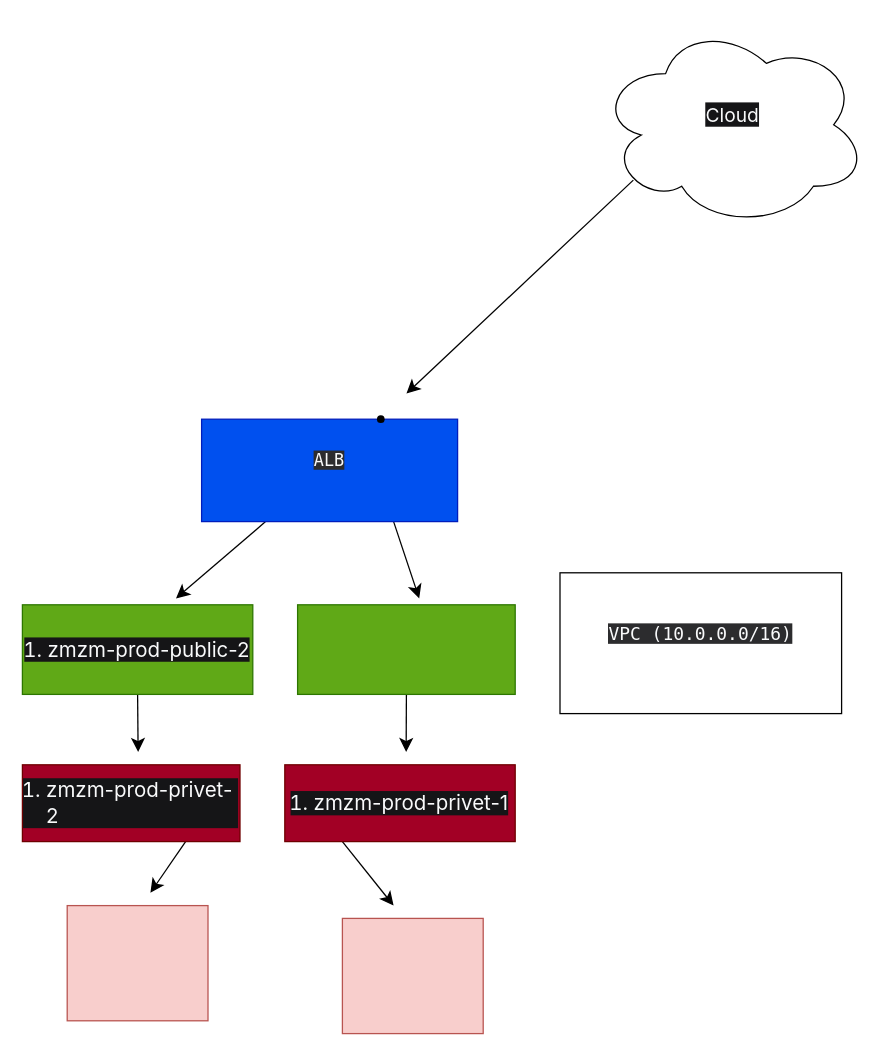
The diagram is 890 pixels wide and 1056 high, and some of its shapes have lost their labels. The centre of each missing label's shape, as x and y in pixels:
EC2: [412,975]
RDS: [137,962]
zmzm-prod-public-1: [405,649]
